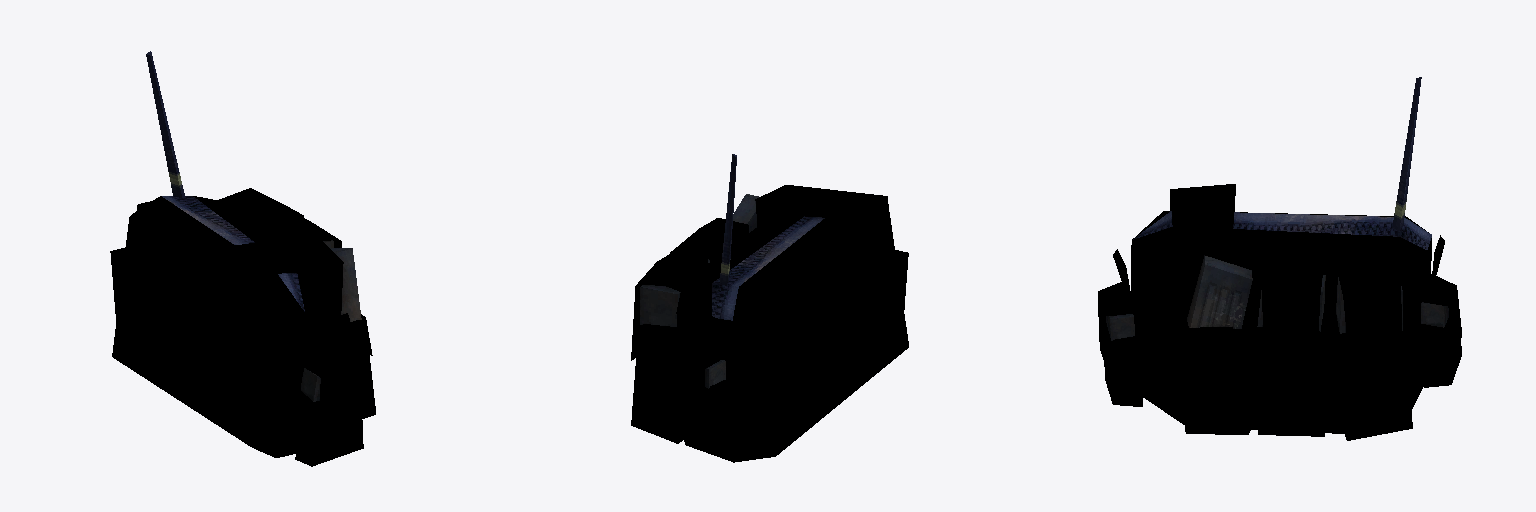
3 views of the same model, side by side, from view 1: azimuth 30°, elevation 25°; view 2: azimuth 150°, elevation 25°; view 3: azimuth 270°, elevation 25° (orthographic).
Parts seen in each view (by area): view 1: mtl_p_glo_scavenger_pack_01_obj, mtl_p_glo_scavenger_pack_02_obj; view 2: mtl_p_glo_scavenger_pack_01_obj, mtl_p_glo_scavenger_pack_02_obj; view 3: mtl_p_glo_scavenger_pack_01_obj, mtl_p_glo_scavenger_pack_02_obj.
Part boxes in pixels (bbox=[...]): mtl_p_glo_scavenger_pack_01_obj: bbox=[110, 188, 375, 466]; mtl_p_glo_scavenger_pack_02_obj: bbox=[146, 51, 361, 401]; mtl_p_glo_scavenger_pack_01_obj: bbox=[631, 185, 908, 462]; mtl_p_glo_scavenger_pack_02_obj: bbox=[640, 154, 824, 388]; mtl_p_glo_scavenger_pack_01_obj: bbox=[1098, 184, 1461, 440]; mtl_p_glo_scavenger_pack_02_obj: bbox=[1106, 77, 1448, 340].
Bounding box in the file's own units: 22.54 × 42.61 × 43.45.
Materials: 2 (1 with a texture image).